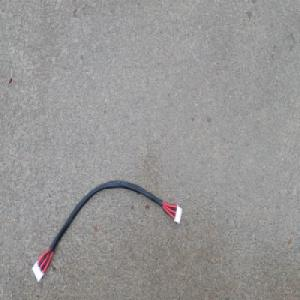Wire: (31, 178, 182, 283)
